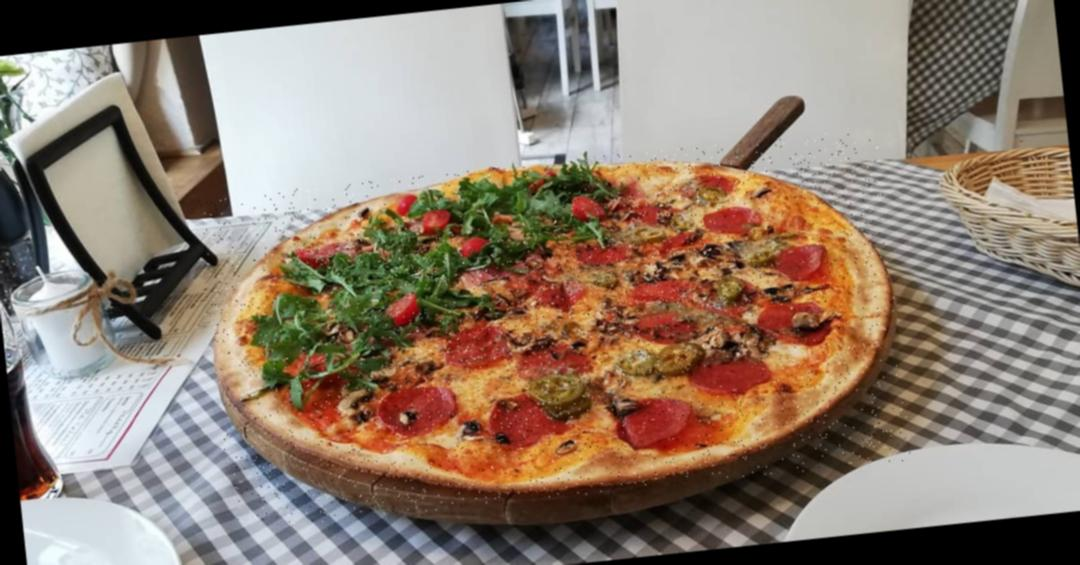Arugula: (274, 273, 382, 344), (375, 233, 458, 291), (458, 173, 530, 226)
Ham: (457, 248, 553, 292)
Mushroom: (640, 241, 739, 280), (708, 324, 759, 358), (508, 324, 556, 356), (594, 298, 629, 337), (791, 307, 839, 332)
Pepperoni: (491, 390, 564, 444), (617, 394, 692, 444), (379, 386, 453, 430), (691, 353, 764, 396), (759, 300, 827, 345), (446, 324, 508, 369), (633, 306, 698, 347), (634, 278, 698, 310), (775, 244, 829, 280), (703, 203, 760, 236), (683, 170, 735, 202), (538, 279, 586, 313), (662, 230, 711, 262), (576, 234, 630, 262), (628, 202, 674, 228)
Peppers: (530, 372, 594, 422), (616, 342, 707, 376), (716, 271, 744, 299), (633, 224, 666, 242), (698, 183, 724, 202), (669, 210, 693, 229), (595, 270, 615, 287), (754, 250, 774, 266)
Pizza: (197, 126, 910, 530)
Tomatoes: (291, 242, 344, 266), (386, 293, 418, 323), (423, 208, 458, 234), (460, 231, 490, 258), (528, 166, 557, 190), (572, 194, 604, 215), (394, 192, 419, 216)
